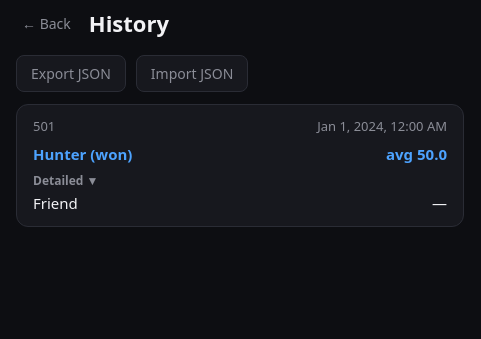
HistoryScreen › singularizes "turn" and "dart" when the winner needed exactly one of each
Click the button "Detailed ▼". click: {"x": 66, "y": 180}
box: [33,165,447,189]
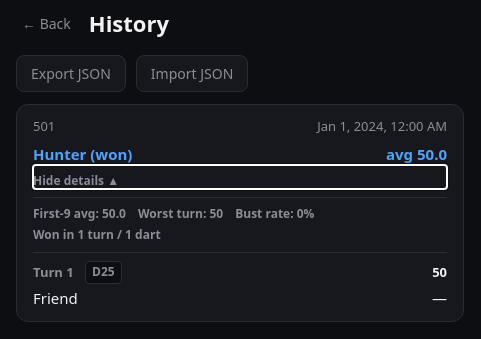
Check: the text "Won in 1 turn / 1 dart" is shown, box [33,227,161,244]
